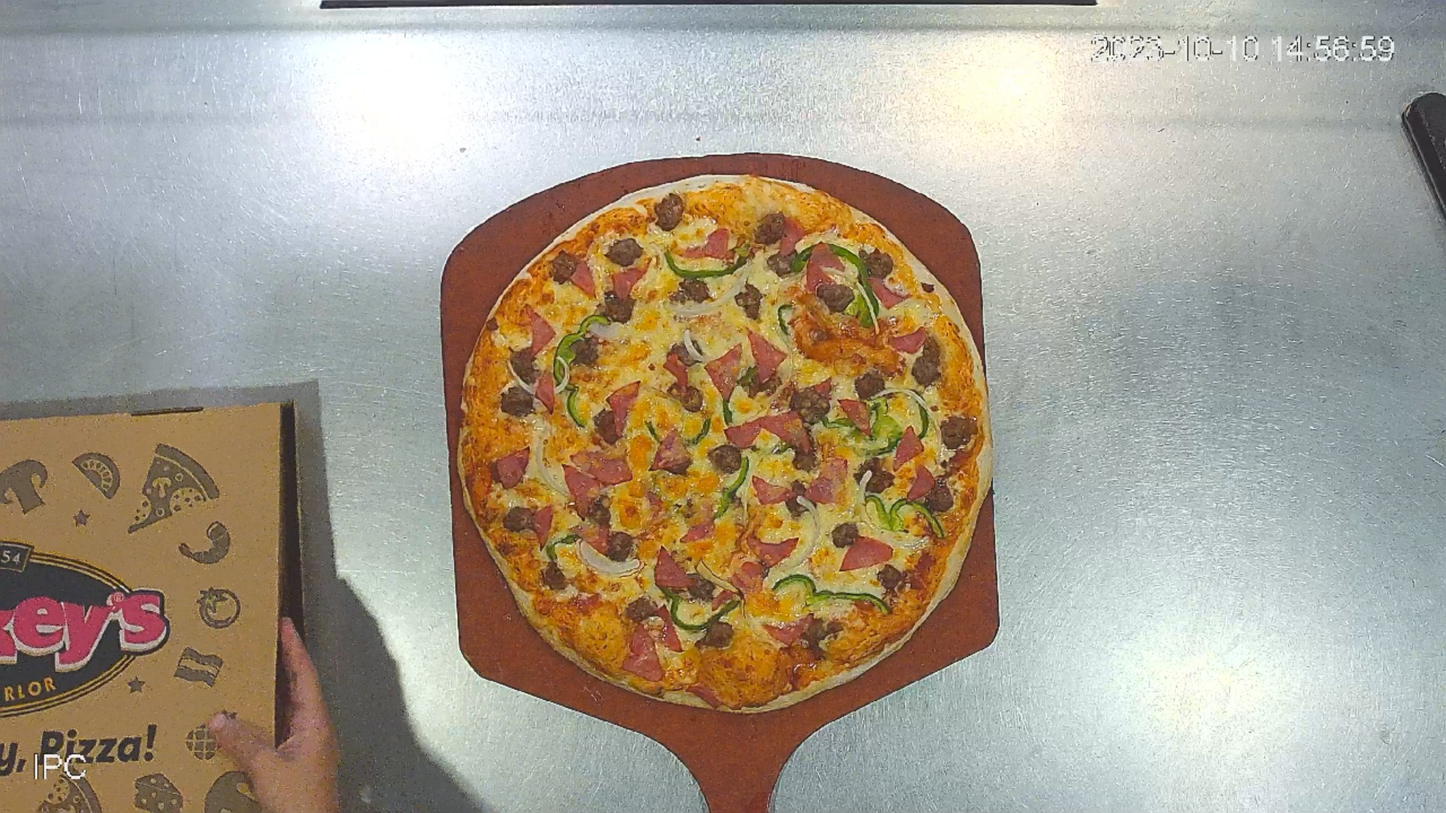manager_choice: (453, 170, 995, 717)
